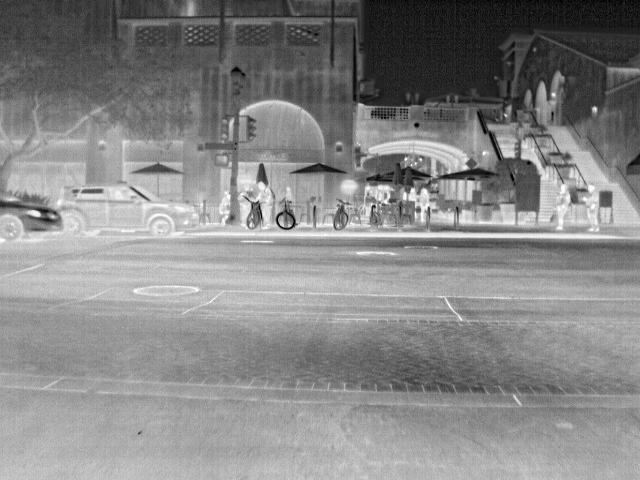car: (60, 184, 205, 240), (2, 197, 64, 241)
person: (254, 182, 277, 229), (582, 184, 604, 232), (553, 184, 575, 230), (218, 192, 232, 224), (419, 186, 432, 220), (407, 188, 419, 200)
